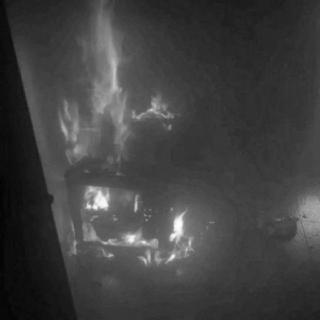Fire: (49, 8, 213, 272)
